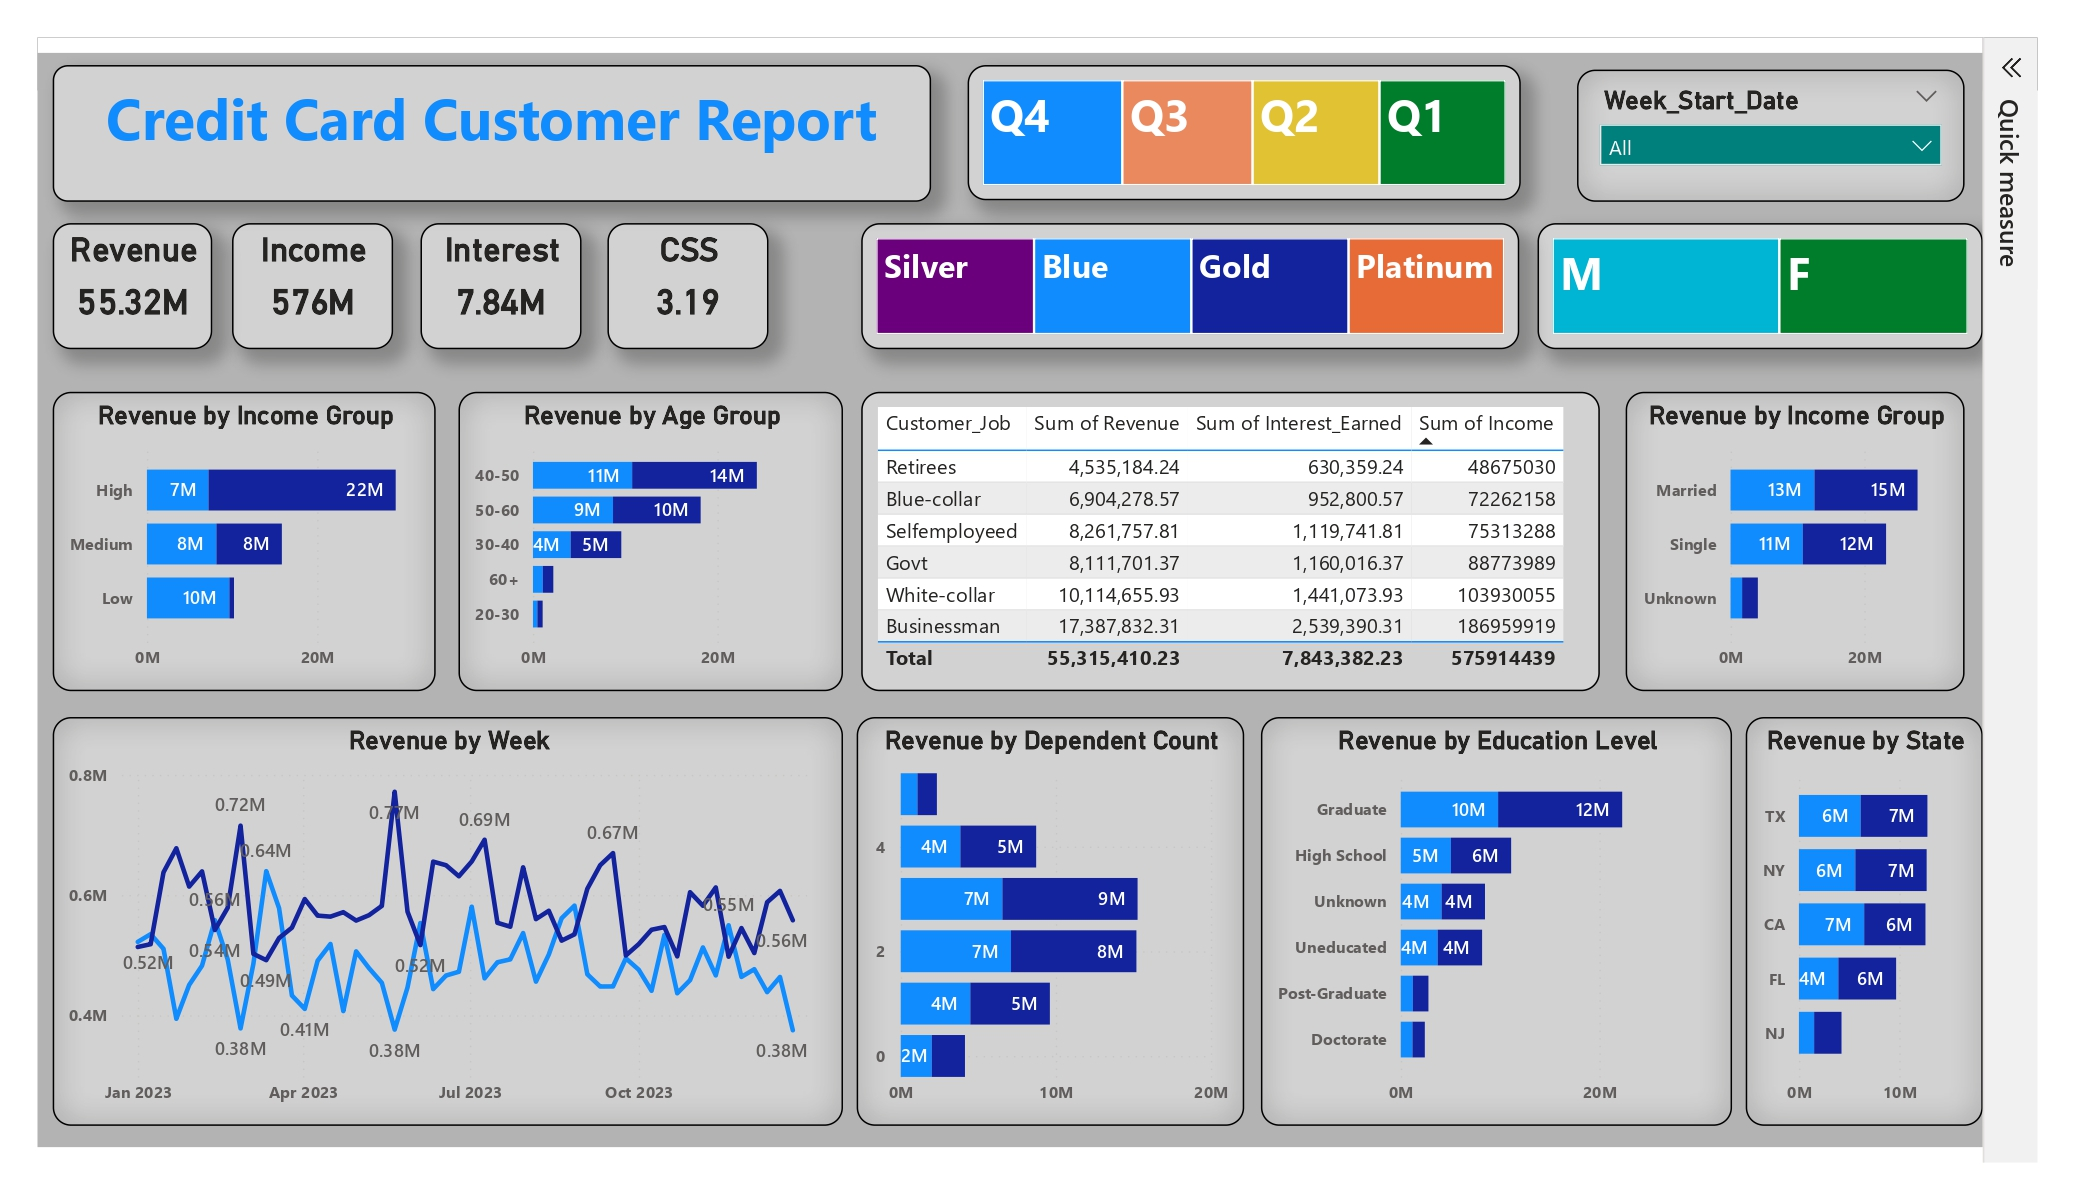

This screenshot's page, from the dashboard's own definition file:
{"tool":"powerbi","page":{"name":"Credit Card Customer Report","canvas":[1280,720],"ordinal":1},"visuals":[{"type":"treemap","fields":{"Group":["credit_card.Qtr"],"Values":["Sum(credit_card.Client_Num)"]},"box":[612,8.2,363.6,89.2],"z":0},{"type":"slicer","fields":{"Values":["credit_card.Week_Start_Date"]},"box":[1013.4,10.9,254.6,86.9],"z":1000},{"type":"treemap","fields":{"Group":["customer.Gender"],"Values":["Sum(credit_card.Revenue)"]},"box":[986.9,112.2,293.2,83.2],"z":2000},{"type":"treemap","fields":{"Group":["credit_card.Card_Category"],"Values":["Avg(credit_card.Client_Num)"]},"box":[541.7,112.2,433.1,83.2],"z":3000},{"type":"textbox","box":[9.7,8.4,577.9,89.3],"z":4000},{"type":"card","title":"Revenue","fields":{"Values":["Sum(credit_card.Revenue)"]},"box":[9.7,112.2,105,83.2],"z":5000},{"type":"card","title":"Income","fields":{"Values":["Sum(customer.Income)"]},"box":[127.9,112.2,106.2,83.2],"z":6000},{"type":"card","title":"Interest","fields":{"Values":["Sum(credit_card.Interest_Earned)"]},"box":[252.1,112.2,106.2,83.2],"z":7000},{"type":"card","title":"CSS","fields":{"Values":["Avg(customer.Cust_Satisfaction_Score)"]},"box":[375.2,112.2,106.2,83.2],"z":8000},{"type":"barChart","title":"Revenue by Income Group","fields":{"Category":["customer.IncomeGroup"],"Y":["Sum(credit_card.Revenue)"],"Series":["customer.Gender"]},"box":[9.7,223.2,252.1,196.6],"z":9000},{"type":"barChart","title":"Revenue by Age Group","fields":{"Y":["Sum(credit_card.Revenue)"],"Series":["customer.Gender"],"Category":["customer.AgeGroup"]},"box":[277.5,223.2,252.1,196.6],"z":10000},{"type":"barChart","title":"Revenue by Income Group","fields":{"Y":["Sum(credit_card.Revenue)"],"Series":["customer.Gender"],"Category":["customer.Marital_Status"]},"box":[1044.8,223.2,223.2,196.6],"z":11000},{"type":"lineChart","title":"Revenue by Week","fields":{"Series":["customer.Gender"],"Y":["Sum(credit_card.Revenue)"],"Category":["credit_card.Week_Start_Date.Variation.Date Hierarchy.Year","credit_card.Week_Start_Date.Variation.Date Hierarchy.Quarter","credit_card.Week_Start_Date.Variation.Date Hierarchy.Month","credit_card.Week_Start_Date.Variation.Date Hierarchy.Day"]},"box":[9.7,436.7,520,269],"z":12000},{"type":"tableEx","fields":{"Values":["customer.Customer_Job","Sum(credit_card.Revenue)","Sum(credit_card.Interest_Earned)","Sum(customer.Income)"]},"box":[541.7,223.2,486.2,196.6],"z":13000},{"type":"barChart","title":"Revenue by State","fields":{"Y":["Sum(credit_card.Revenue)"],"Series":["customer.Gender"],"Category":["customer.state_cd"]},"box":[1124.4,436.7,155.6,269],"z":14000},{"type":"barChart","title":"Revenue by Education Level","fields":{"Y":["Sum(credit_card.Revenue)"],"Series":["customer.Gender"],"Category":["customer.Education_Level"]},"box":[804.7,436.7,310.1,269],"z":15000},{"type":"barChart","title":"Revenue by Dependent Count","fields":{"Y":["Sum(credit_card.Revenue)"],"Series":["customer.Gender"],"Category":["customer.Dependent_Count"]},"box":[539.3,436.7,254.6,269],"z":16000}]}

Visuals, with their boxes in screenshot pixels (x1, y1, x2, y2):
treemap - credit_card.Qtr x Sum(credit_card.Client_Num): l=960, t=50, r=1521, b=188
slicer - credit_card.Week_Start_Date: l=1579, t=55, r=1971, b=189
treemap - customer.Gender x Sum(credit_card.Revenue): l=1538, t=211, r=1990, b=339
treemap - credit_card.Card_Category x Avg(credit_card.Client_Num): l=852, t=211, r=1519, b=339
textbox: l=31, t=51, r=922, b=188
"Revenue" card: l=31, t=211, r=193, b=339
"Income" card: l=213, t=211, r=377, b=339
"Interest" card: l=405, t=211, r=569, b=339
"CSS" card: l=595, t=211, r=759, b=339
"Revenue by Income Group" barChart: l=31, t=382, r=420, b=685
"Revenue by Age Group" barChart: l=444, t=382, r=833, b=685
"Revenue by Income Group" barChart: l=1627, t=382, r=1971, b=685
"Revenue by Week" lineChart: l=31, t=711, r=833, b=1126
tableEx - customer.Customer_Job x Sum(credit_card.Revenue): l=852, t=382, r=1601, b=685
"Revenue by State" barChart: l=1750, t=711, r=1990, b=1126
"Revenue by Education Level" barChart: l=1257, t=711, r=1735, b=1126
"Revenue by Dependent Count" barChart: l=848, t=711, r=1240, b=1126
